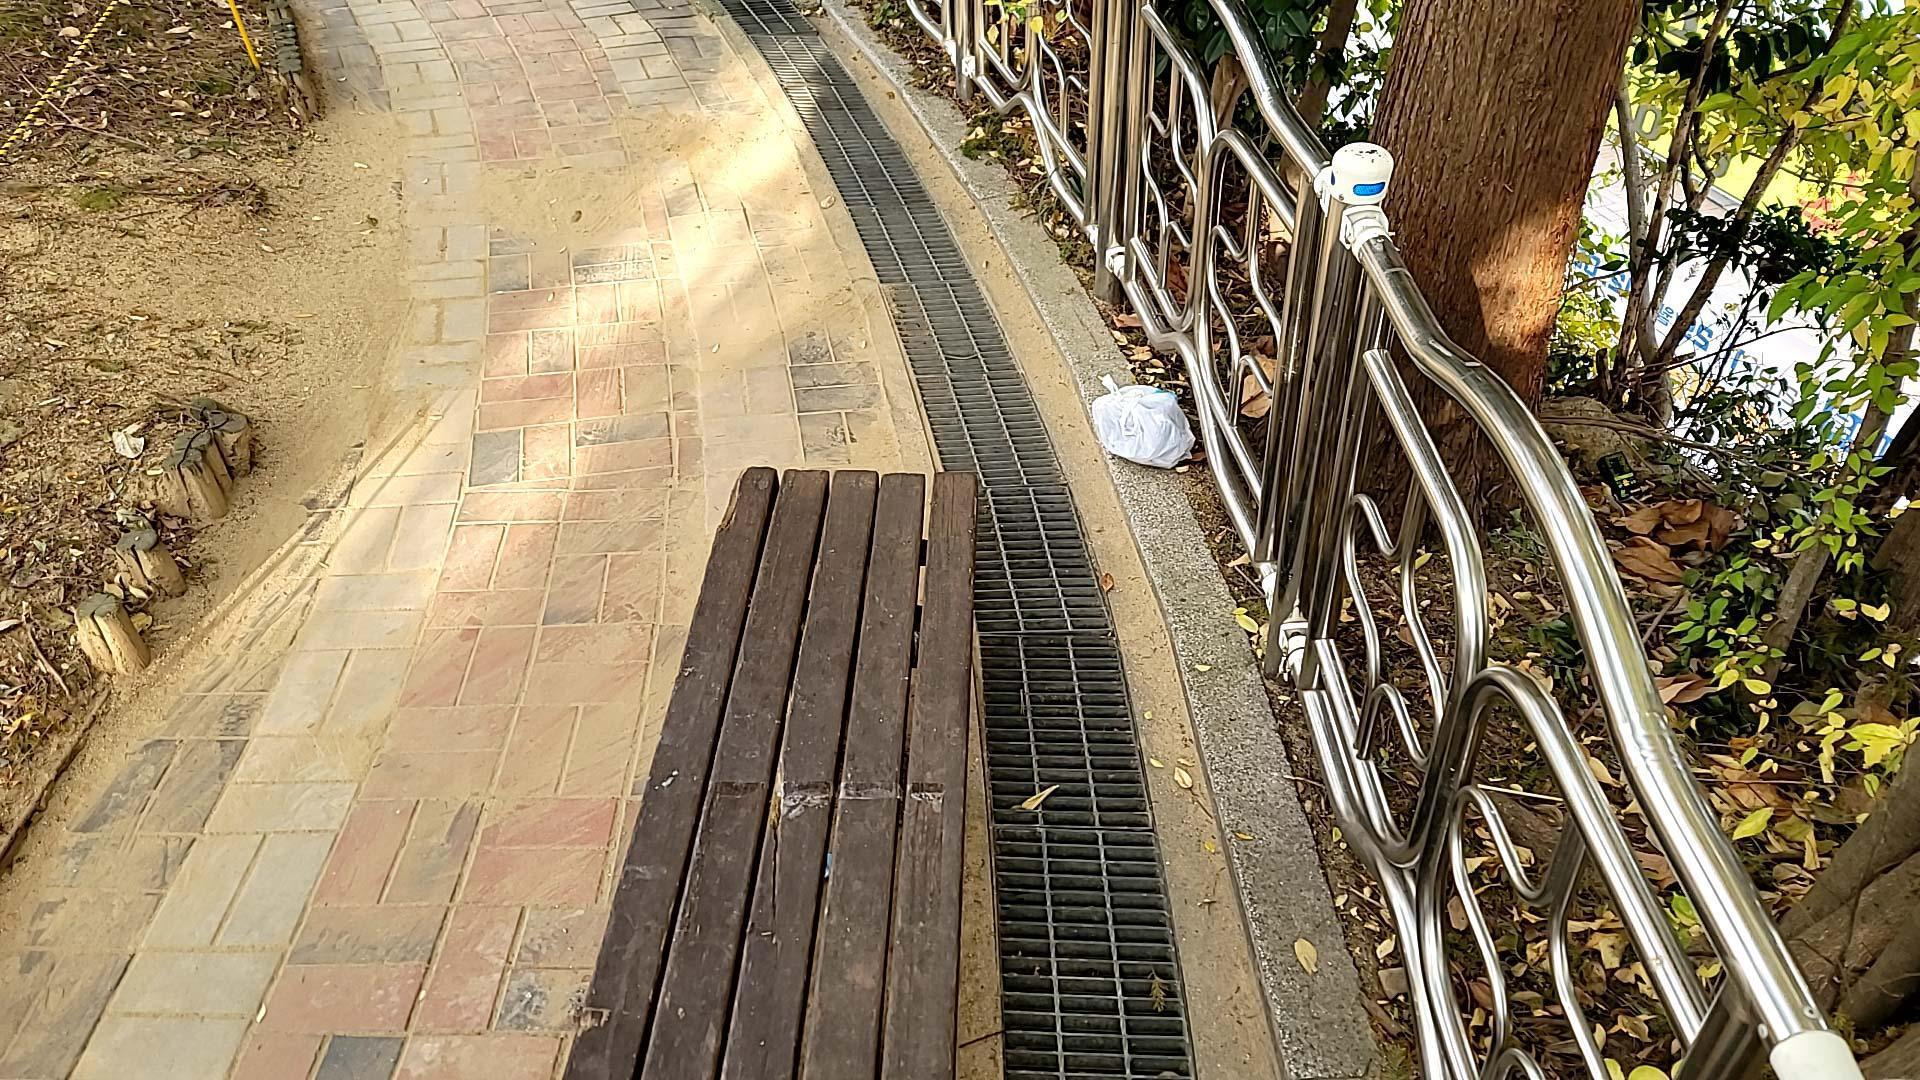white_bag: (1079, 367, 1209, 485)
